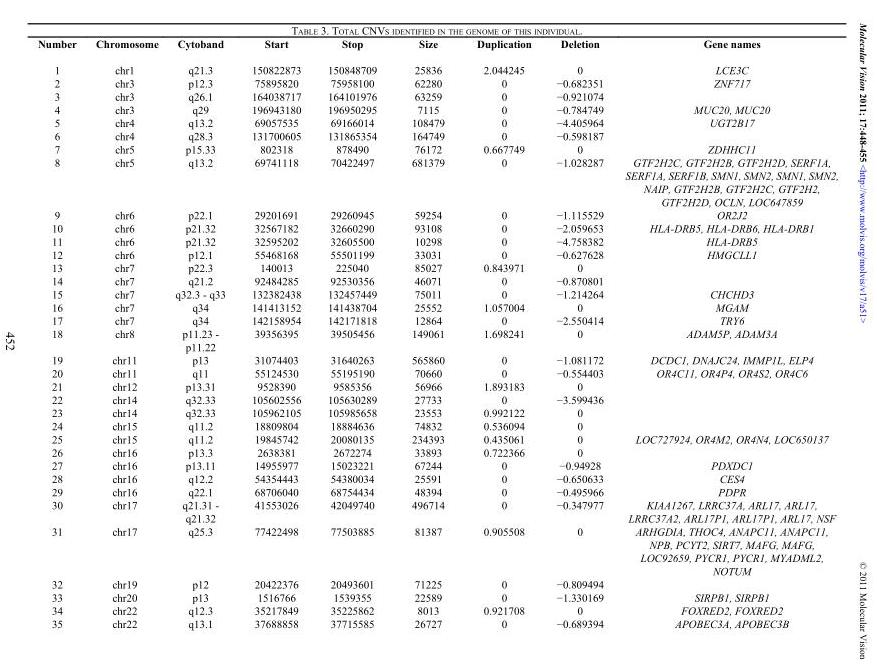table: (37, 37, 838, 629)
table column: (614, 37, 838, 629), (461, 37, 544, 629), (86, 37, 167, 629), (314, 37, 394, 629), (238, 37, 314, 629), (167, 37, 238, 629), (544, 37, 614, 629), (394, 37, 461, 629), (37, 37, 86, 629)
table column header: (37, 37, 838, 56)
table row: (37, 155, 838, 208), (37, 524, 838, 577), (37, 326, 838, 353), (37, 498, 838, 524), (37, 56, 838, 76), (37, 37, 838, 56), (37, 128, 838, 142), (37, 273, 838, 287), (37, 418, 838, 432), (37, 484, 838, 498), (37, 76, 838, 89), (37, 89, 838, 102), (37, 102, 838, 115), (37, 115, 838, 128), (37, 142, 838, 155), (37, 208, 838, 221), (37, 221, 838, 234), (37, 234, 838, 247), (37, 247, 838, 260), (37, 260, 838, 273), (37, 287, 838, 300), (37, 300, 838, 313), (37, 313, 838, 326), (37, 353, 838, 366), (37, 366, 838, 379), (37, 379, 838, 392), (37, 392, 838, 405), (37, 405, 838, 418), (37, 432, 838, 445), (37, 445, 838, 458), (37, 458, 838, 471), (37, 471, 838, 484), (37, 577, 838, 590), (37, 590, 838, 603), (37, 603, 838, 616), (37, 616, 838, 629)
